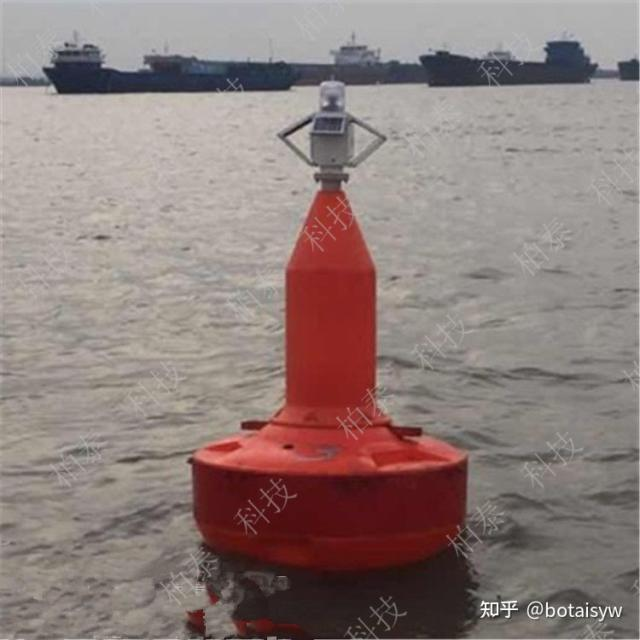buoy: (190, 75, 472, 561)
